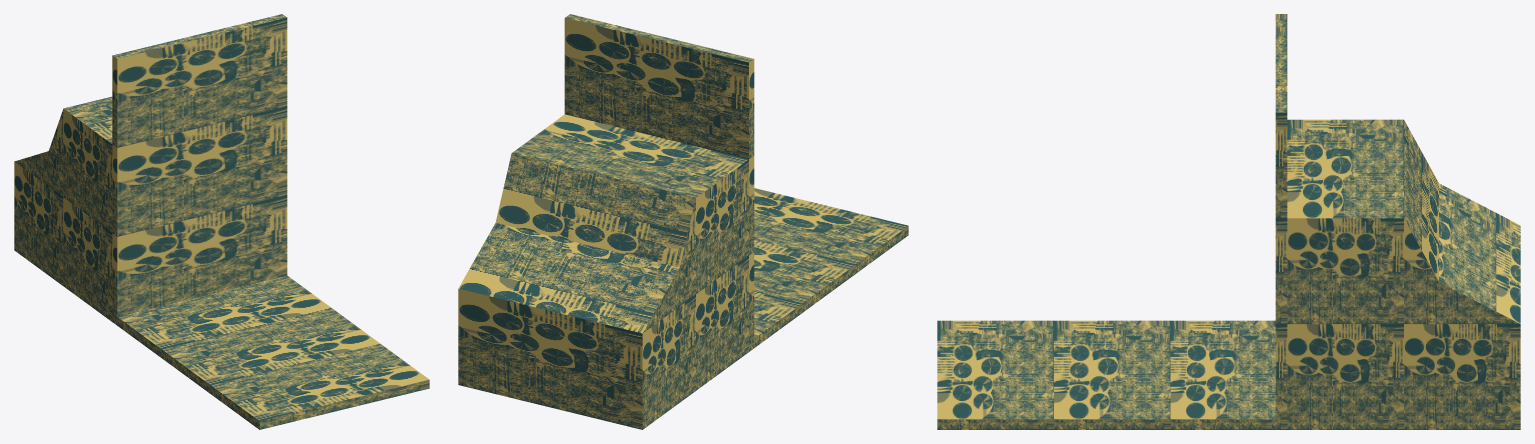
File: forklift.fbx
The picture shows the model from 3 angles, left to right: view 1: azimuth 30°, elevation 25°; view 2: azimuth 150°, elevation 25°; view 3: azimuth 270°, elevation 25°; orthographic projection. The views are drawn at different scales.
Visible parts, largest first — view 1: forklift; view 2: forklift; view 3: forklift.
Part boxes in pixels (box(x1,y1,x2,y2)): forklift: box(14, 14, 429, 429); forklift: box(458, 14, 908, 429); forklift: box(937, 14, 1520, 429).
Size of the model in its own units: 200 by 300 by 500.
1 material, 1 textured.
